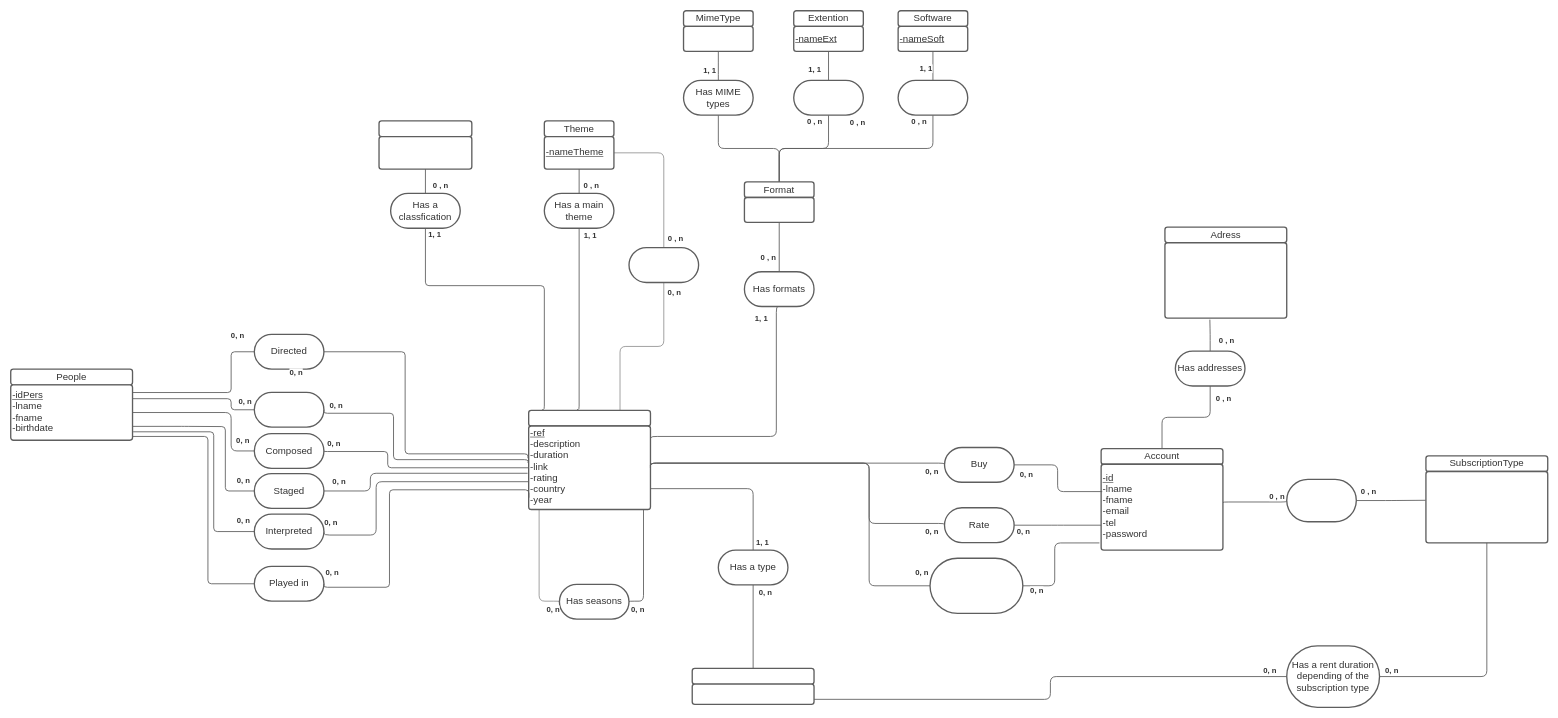
The diagram is 1558 pixels wide and 718 high, and some of its shapes have lost their labels. Here are the shapes that lost their labels. From the top down, the centre of each, then its label:
At (x=718, y=38): "-nameType".
At (x=828, y=97): "Has extentions".
At (x=932, y=97): "Can be opened by".
At (x=425, y=128): "Classficiation".
At (x=425, y=152): "-nameClassification".
At (x=779, y=210): "-nameFormat".
At (x=663, y=265): "Has key words".
At (x=1225, y=280): "-id -number -city -postalCode -detail -street".
At (x=288, y=409): "Scripted".
At (x=589, y=417): "Content".
At (x=1321, y=500): "Has or has been subscripted".
At (x=1486, y=507): "-name -beginDate -endDate -price -nbContent".
At (x=976, y=585): "Rent for a duration ------ endDate".
At (x=752, y=676): "ContentType".
At (x=752, y=694): "-name".
